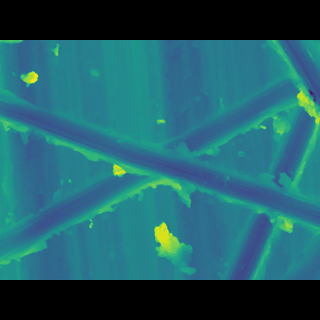Loch: (0, 95, 320, 237), (0, 103, 320, 213), (220, 117, 320, 250)
